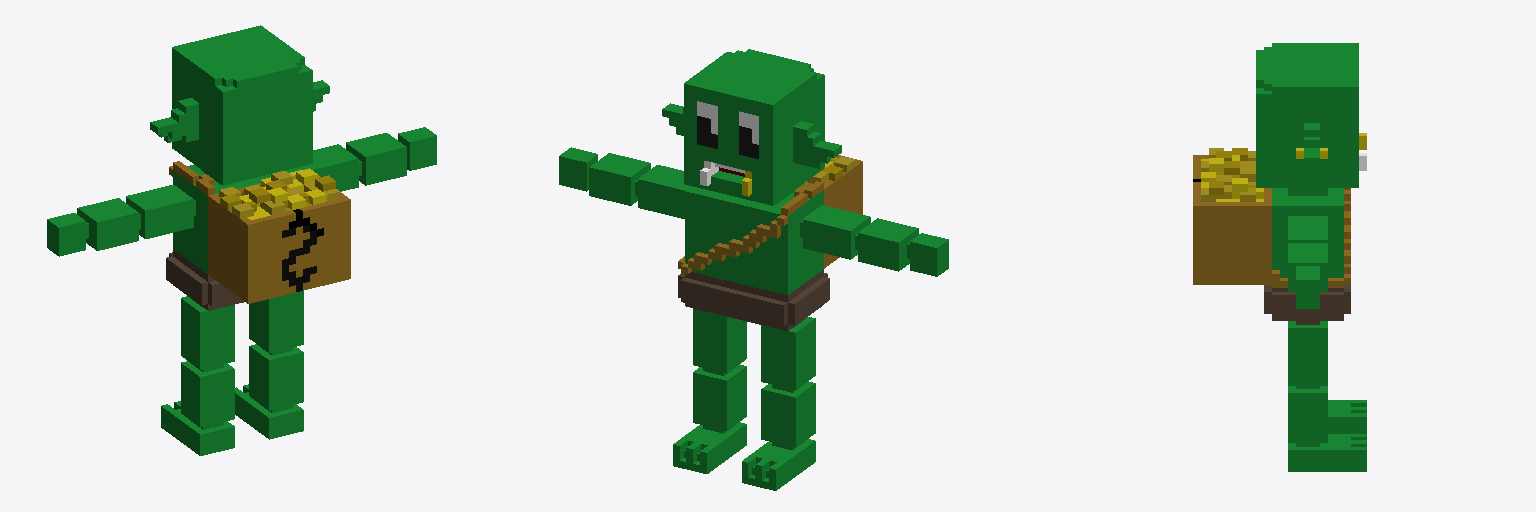
3 views of the same model, side by side, from view 1: azimuth 30°, elevation 25°; view 2: azimuth 150°, elevation 25°; view 3: azimuth 270°, elevation 25° (orthographic).
Parts seen in each view (by area): view 1: Model; view 2: Model; view 3: Model.
Boxes of the visible parts, x1,y1,x2,y2 form: Model: [47, 25, 436, 455]; Model: [559, 49, 948, 490]; Model: [1193, 43, 1366, 471].
Bounding box in the file's own units: 32 × 30.84 × 12.8.
Materials: 1 (1 with a texture image).